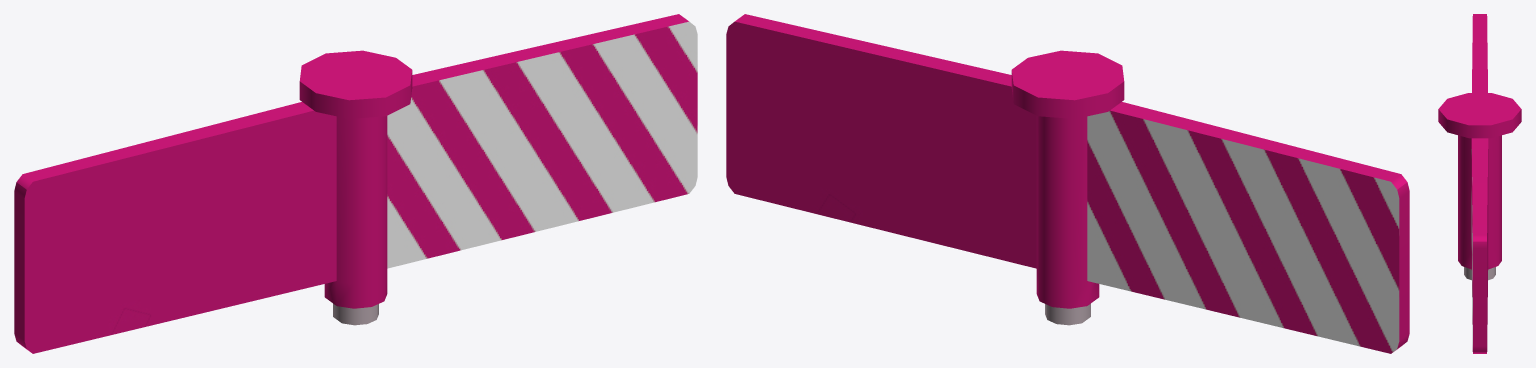
The model's file is OBS0110011.fbx.
3 renders of one model, left to right at view 1: azimuth 30°, elevation 25°; view 2: azimuth 150°, elevation 25°; view 3: azimuth 270°, elevation 25°, orthographic. The views are drawn at different scales.
Parts seen in each view (by area): view 1: smOBS0110011; view 2: smOBS0110011; view 3: smOBS0110011.
Boxes of the visible parts, bbox=[...] form: smOBS0110011: bbox=[14, 14, 697, 353]; smOBS0110011: bbox=[726, 14, 1409, 353]; smOBS0110011: bbox=[1438, 14, 1521, 353].
Bounding box in the file's own units: 674 × 230 × 104.
Materials: 1 (1 with a texture image).
